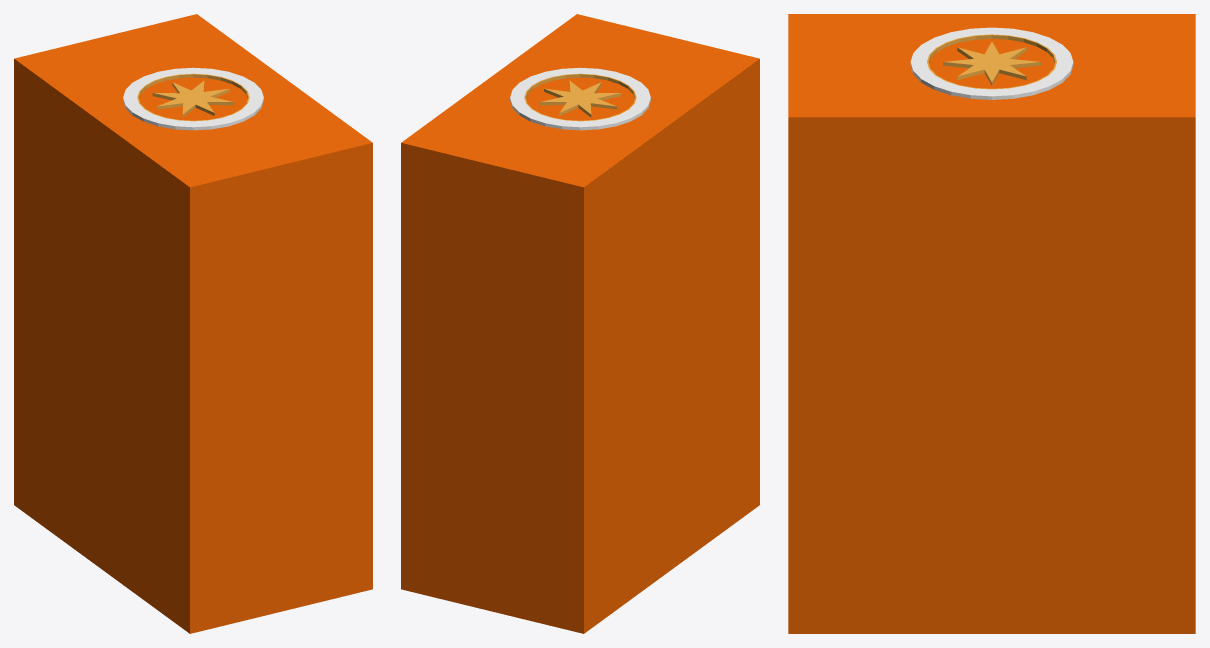
Rendered from Product_Feeder.dae.
3 views of the same model, side by side, from view 1: azimuth 30°, elevation 25°; view 2: azimuth 150°, elevation 25°; view 3: azimuth 270°, elevation 25° (orthographic). The views are drawn at different scales.
Visible parts, largest first — view 1: Product_Feeder (×3); view 2: Product_Feeder (×3); view 3: Product_Feeder (×3).
Boxes of the visible parts, x1,y1,x2,y2 form: Product_Feeder (×3): [14, 14, 372, 633]; Product_Feeder (×3): [401, 14, 759, 633]; Product_Feeder (×3): [788, 14, 1195, 633].
Bounding box in the file's own units: 0.3 × 0.5 × 0.705.
